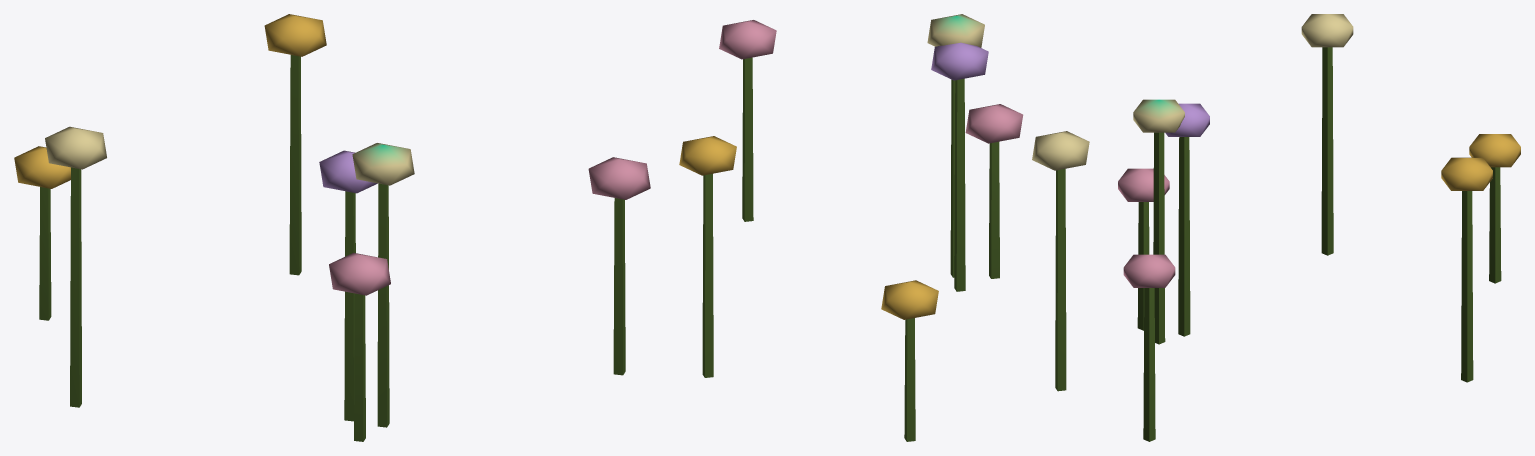
File: flowers.glb
3 renders of one model, left to right at view 1: azimuth 30°, elevation 25°; view 2: azimuth 150°, elevation 25°; view 3: azimuth 270°, elevation 25°, orthographic. The views are drawn at different scales.
Visible parts, largest first — view 1: flowers; view 2: flowers; view 3: flowers.
Part boxes in pixels (x1=…): flowers: x1=14, y1=14, x2=650, y2=441; flowers: x1=679, y1=14, x2=1089, y2=441; flowers: x1=1118, y1=14, x2=1520, y2=441.
Size of the model in its own units: 0.9792 by 0.5291 by 0.7972.
